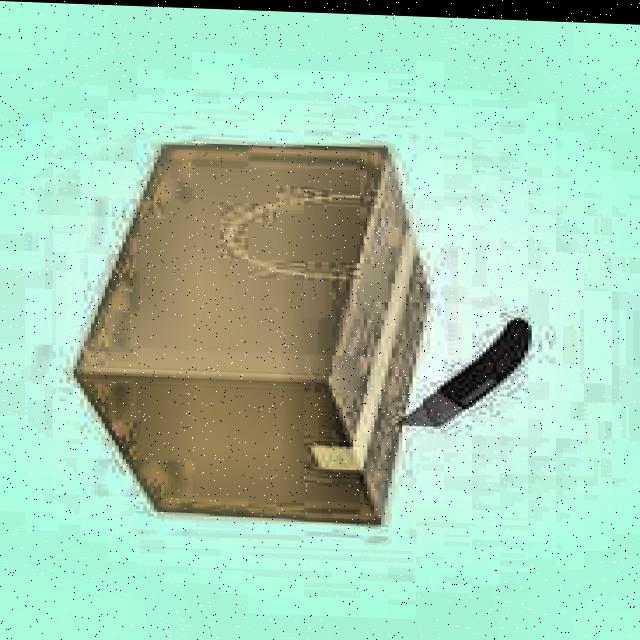cardboard: (71, 130, 448, 534)
